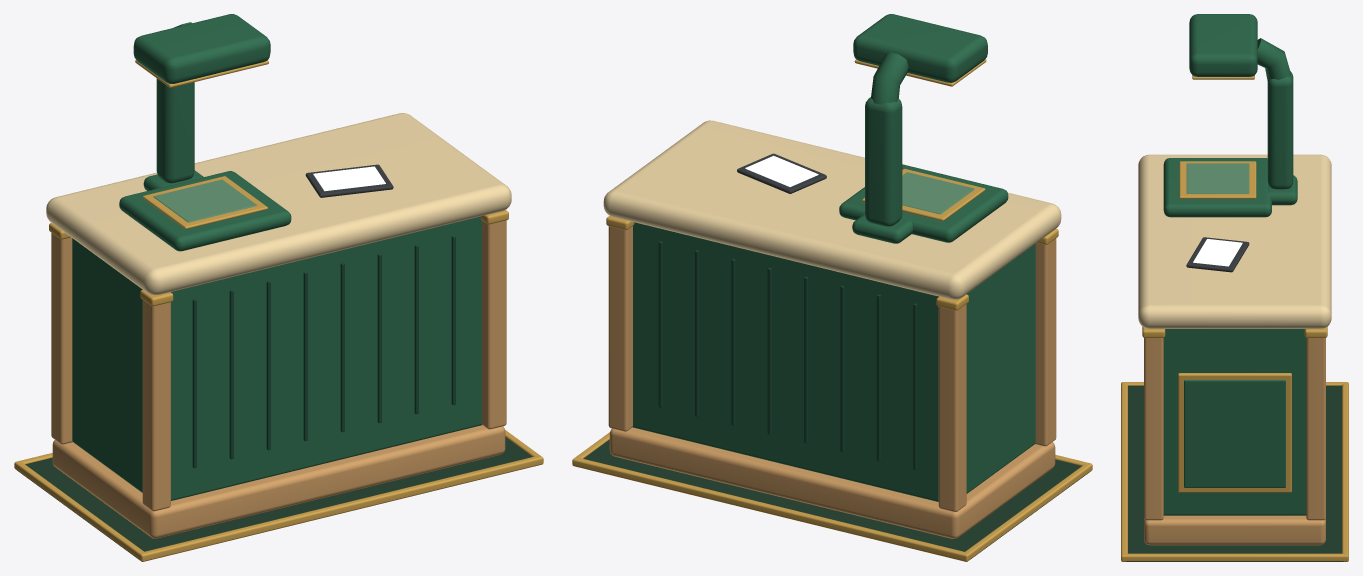
File: security_booth_tier2.glb
The picture shows the model from 3 angles, left to right: view 1: azimuth 30°, elevation 25°; view 2: azimuth 150°, elevation 25°; view 3: azimuth 270°, elevation 25°; orthographic projection. The views are drawn at different scales.
Parts seen in each view (by area): view 1: Body, Top, Plinth, Mat, LampHead, Pilaster-1-1, Pilaster1-1, ScanPad, Pilaster-11, MatEdge0, ArmCol, ScanWindow (+12 smaller); view 2: Body, Top, Plinth, Mat, LampHead, Pilaster-11, Pilaster11, ArmCol, Pilaster-1-1, MatEdge1, ScanPad, ScanWindow (+14 smaller); view 3: Top, Body, EndInset, Mat, Plinth, LampHead, Pilaster1-1, Pilaster11, ScanPad, ArmCol, EndFrame, MatEdge3 (+8 smaller).
Part boxes in pixels (x1,y1,x2,y2): Body: (72, 216, 481, 500); Top: (46, 113, 511, 295); Plinth: (52, 425, 505, 538); Mat: (17, 437, 531, 561); LampHead: (133, 14, 270, 83); Pilaster-1-1: (142, 300, 170, 511); Pilaster1-1: (482, 220, 506, 429); ScanPad: (119, 171, 291, 251); Pilaster-11: (51, 233, 72, 444); MatEdge0: (139, 455, 543, 561); ArmCol: (156, 78, 194, 183); ScanWindow: (153, 179, 257, 222); Body: (632, 222, 1035, 501); Top: (603, 120, 1061, 299); Plinth: (609, 427, 1055, 538); Mat: (583, 439, 1089, 559); LampHead: (853, 14, 987, 82); Pilaster-11: (938, 304, 966, 511); Pilaster11: (608, 226, 632, 431); ArmCol: (865, 97, 902, 226); Pilaster-1-1: (1035, 238, 1056, 446); MatEdge1: (572, 457, 969, 561); ScanPad: (839, 164, 1008, 242); ScanWindow: (902, 172, 974, 214); Top: (1138, 154, 1331, 328); Body: (1163, 329, 1306, 515); EndInset: (1184, 380, 1285, 487); Mat: (1126, 385, 1343, 561); Plinth: (1144, 515, 1325, 545); LampHead: (1189, 14, 1257, 76); Pilaster1-1: (1144, 338, 1163, 520); Pilaster11: (1306, 338, 1325, 520); ScanPad: (1163, 158, 1271, 217); ArmCol: (1267, 71, 1293, 189); EndFrame: (1178, 373, 1291, 492); MatEdge3: (1122, 553, 1347, 561).
Bounding box in the file's own units: 1.45 × 1.57 × 0.8001.
